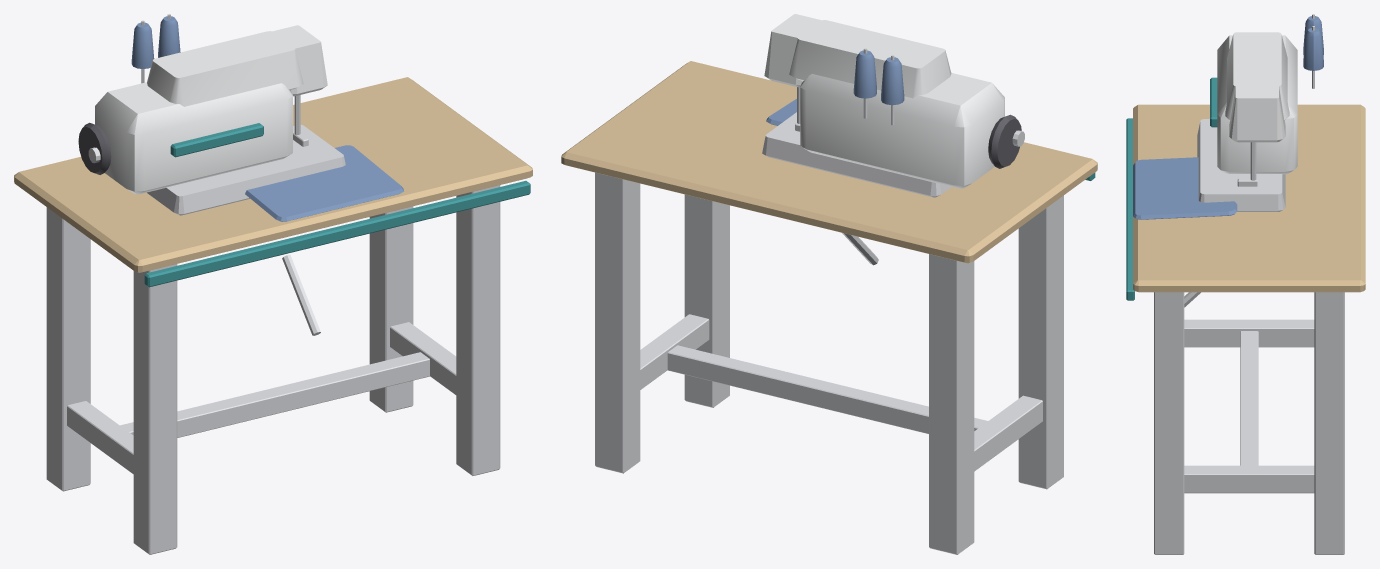
Rendered from dry-cleaners-and-alterations-shop-sewing-machine-table-2552a1da__34967.glb.
The picture shows the model from 3 angles, left to right: view 1: azimuth 30°, elevation 25°; view 2: azimuth 150°, elevation 25°; view 3: azimuth 270°, elevation 25°; orthographic projection. The views are drawn at different scales.
Visible parts, largest first — view 1: sewing-machine-table, balance-wheel/dark; view 2: sewing-machine-table, balance-wheel/dark; view 3: sewing-machine-table.
Boxes of the visible parts, x1=… form: sewing-machine-table: x1=14, y1=14, x2=532, y2=554; balance-wheel/dark: x1=78, y1=122, x2=111, y2=174; sewing-machine-table: x1=561, y1=14, x2=1097, y2=554; balance-wheel/dark: x1=988, y1=114, x2=1021, y2=168; sewing-machine-table: x1=1126, y1=14, x2=1365, y2=554.
Size of the model in its own units: 1.06 by 1.15 by 0.597.
